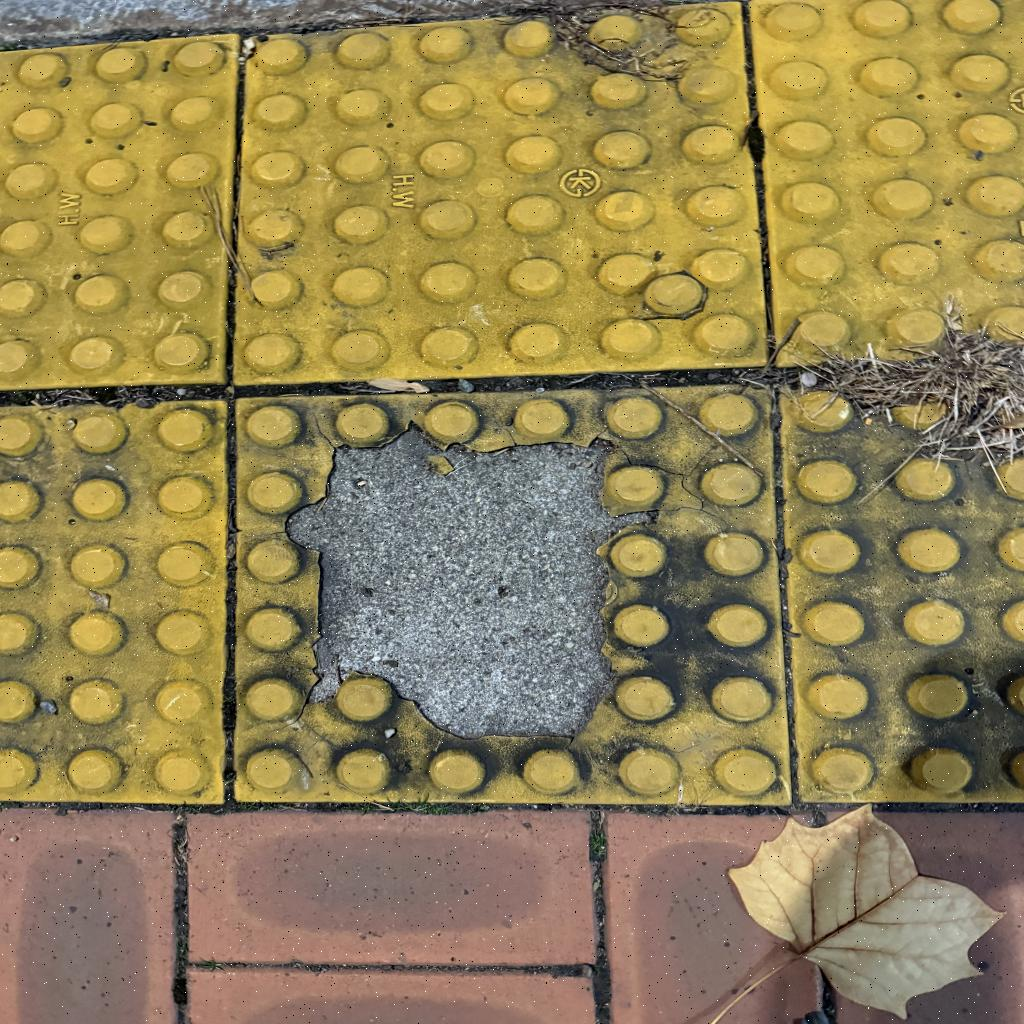Stop block broken: (238, 399, 775, 802)
Stop block normal: (225, 3, 760, 379)
